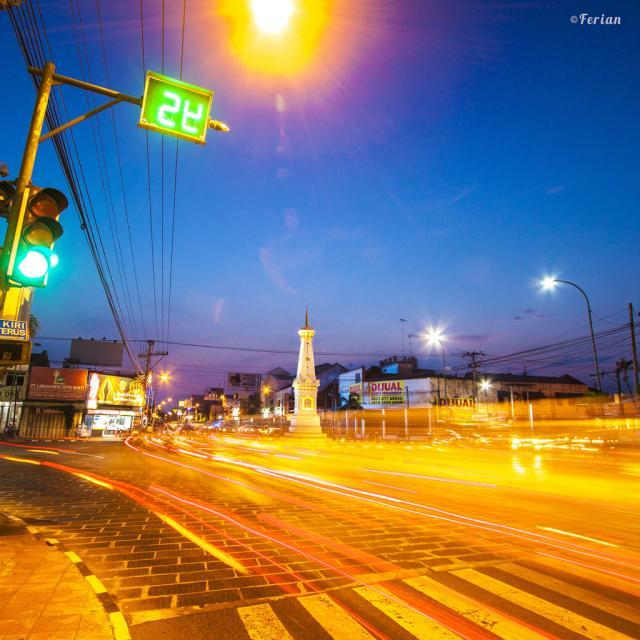traffic light: (17, 184, 64, 287)
